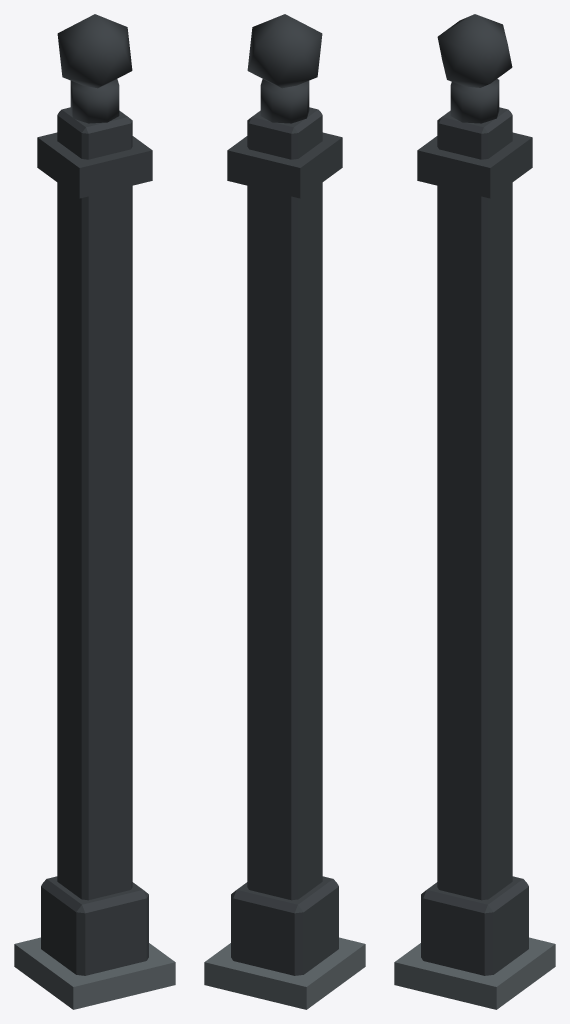
3 views of the same model, side by side, from view 1: azimuth 30°, elevation 25°; view 2: azimuth 150°, elevation 25°; view 3: azimuth 330°, elevation 25° (orthographic).
Visible parts, largest first — view 1: house_paint; view 2: house_paint; view 3: house_paint.
Part boxes in pixels (box(x1,y1,x2,y2)): house_paint: box(14, 14, 175, 1009); house_paint: box(204, 14, 365, 1009); house_paint: box(394, 14, 555, 1009).
Size of the model in its own units: 0.14 by 1.26 by 0.14.
Materials: 1 (1 with a texture image).
